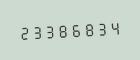eight: (56, 20, 68, 40), (82, 19, 94, 38)
four: (108, 17, 120, 37)
six: (69, 20, 81, 39)
three: (95, 18, 107, 38), (30, 22, 42, 41), (43, 21, 55, 40)
two: (17, 22, 29, 42)
